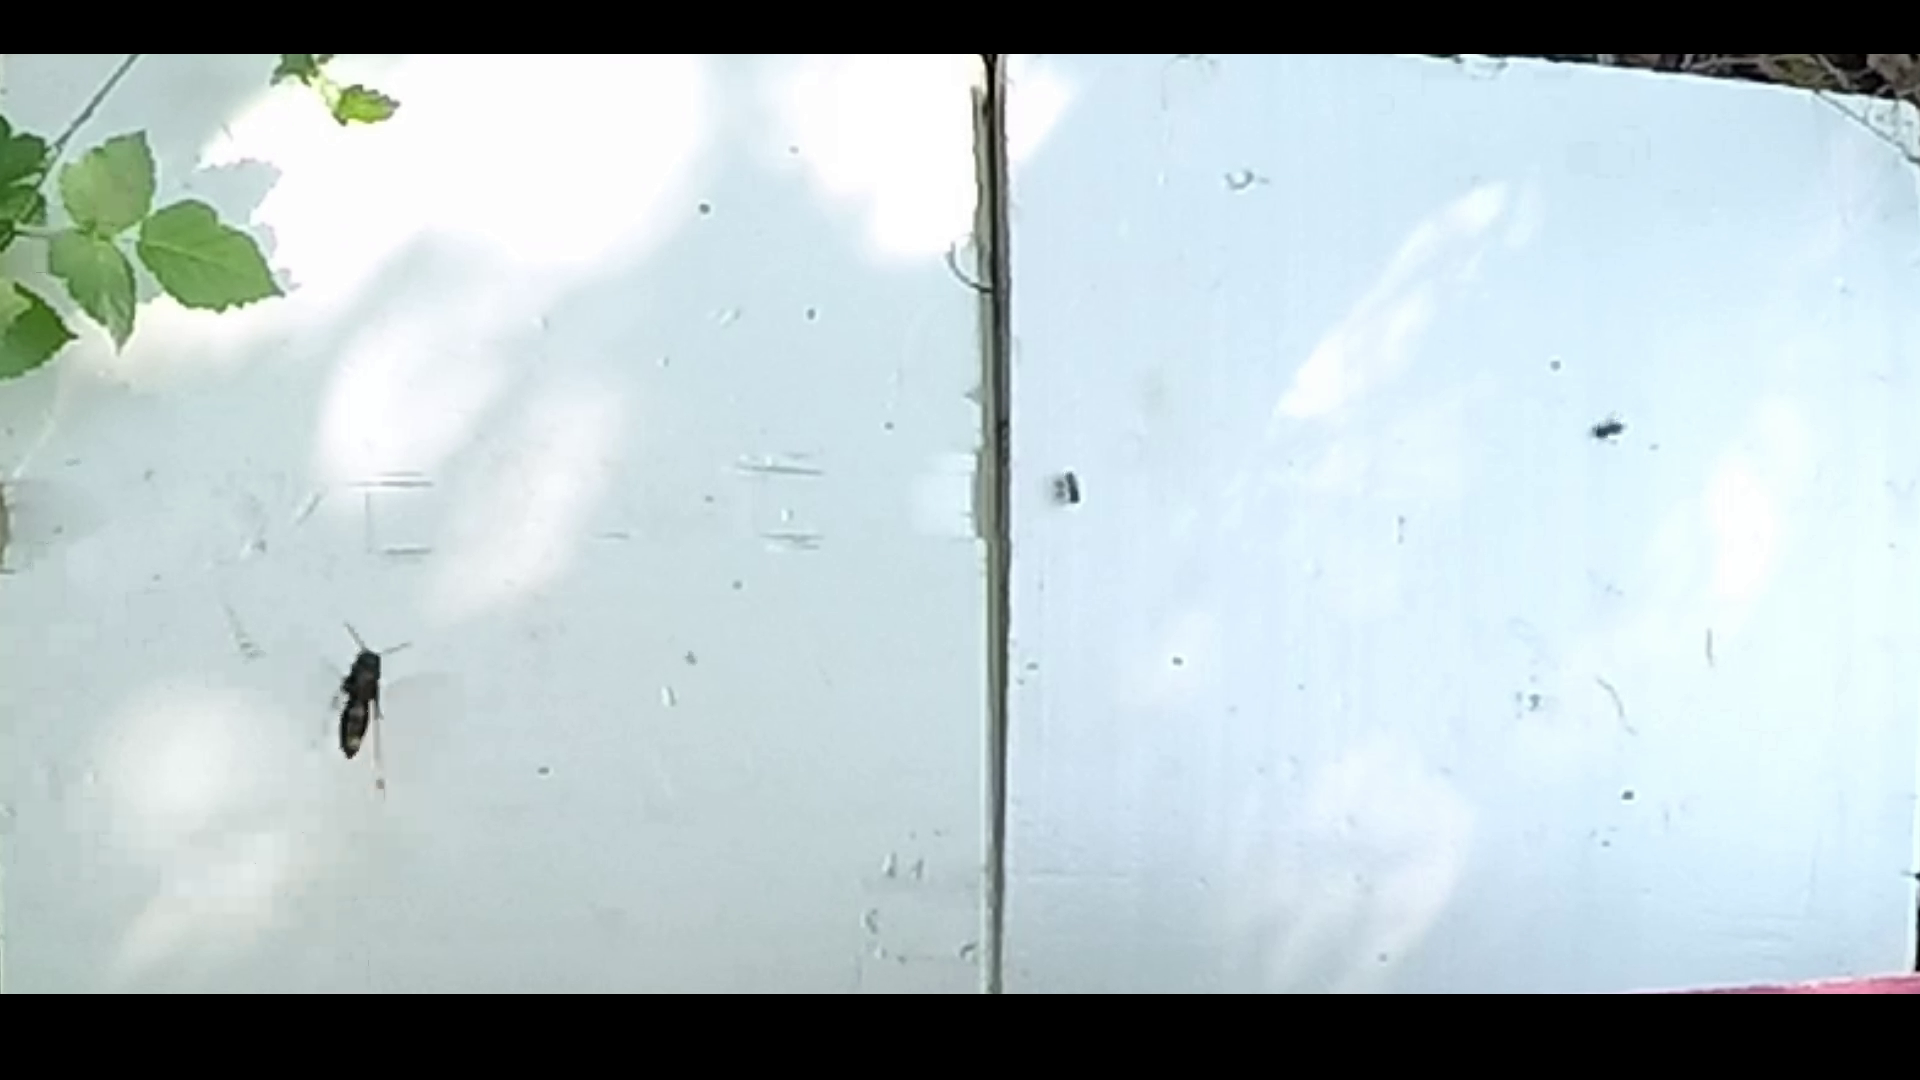Asian_hornets: (290, 603, 440, 782)
